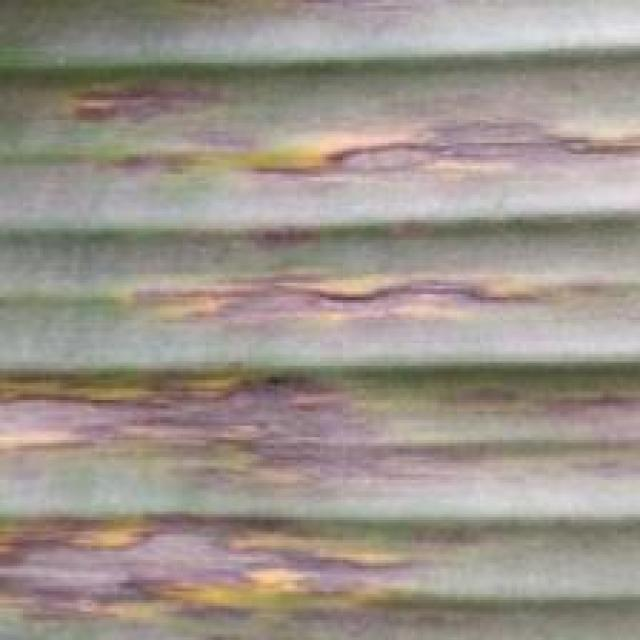Early_leaf_spot: (0, 352, 640, 494), (0, 488, 568, 640), (234, 53, 640, 215), (113, 251, 640, 344), (36, 54, 244, 193)
